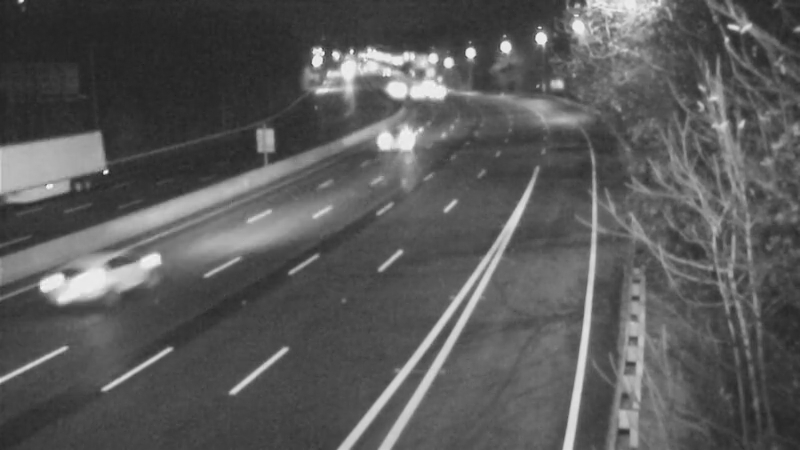vehicle: (41, 235, 121, 315), (1, 147, 75, 227), (374, 65, 424, 115), (413, 68, 463, 118), (391, 70, 441, 120), (375, 114, 425, 164)
